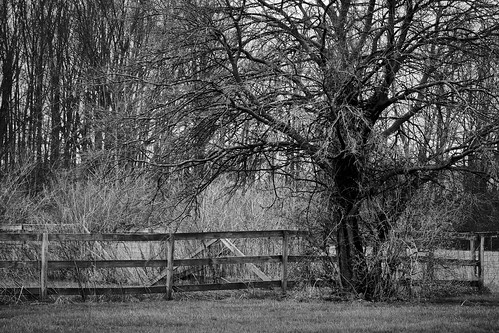tree: (117, 1, 496, 271)
vegetation: (1, 1, 188, 214)
